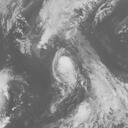cyclone: (51, 47, 81, 91)
